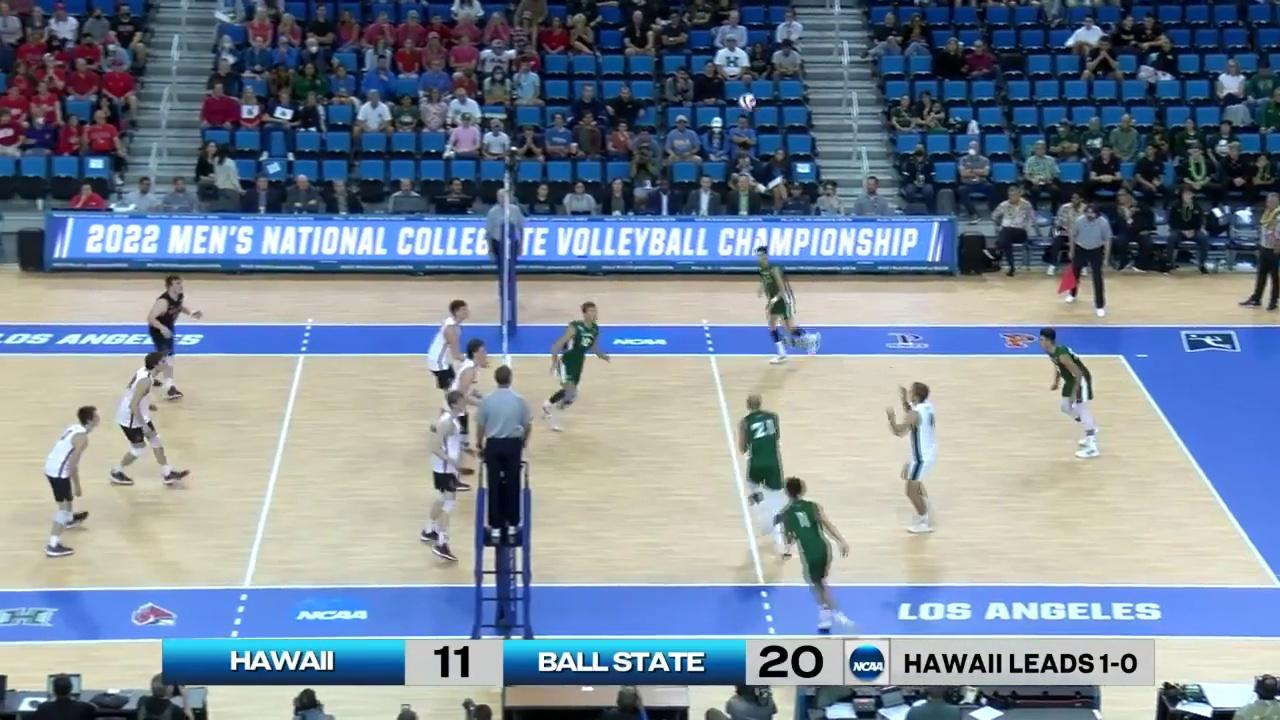player: (778, 478, 855, 632), (117, 351, 187, 486), (738, 394, 792, 557), (44, 406, 101, 555), (1037, 329, 1099, 460), (421, 391, 468, 563), (138, 275, 199, 403), (886, 382, 937, 532), (756, 249, 823, 362), (543, 304, 601, 433), (429, 300, 480, 442), (439, 339, 486, 492)
refree: (479, 366, 534, 539), (1066, 205, 1112, 313), (489, 191, 522, 289)
